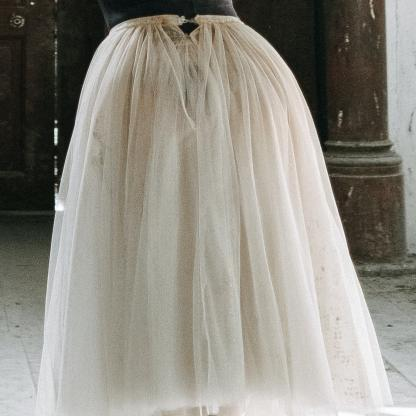dress: (34, 12, 408, 416)
